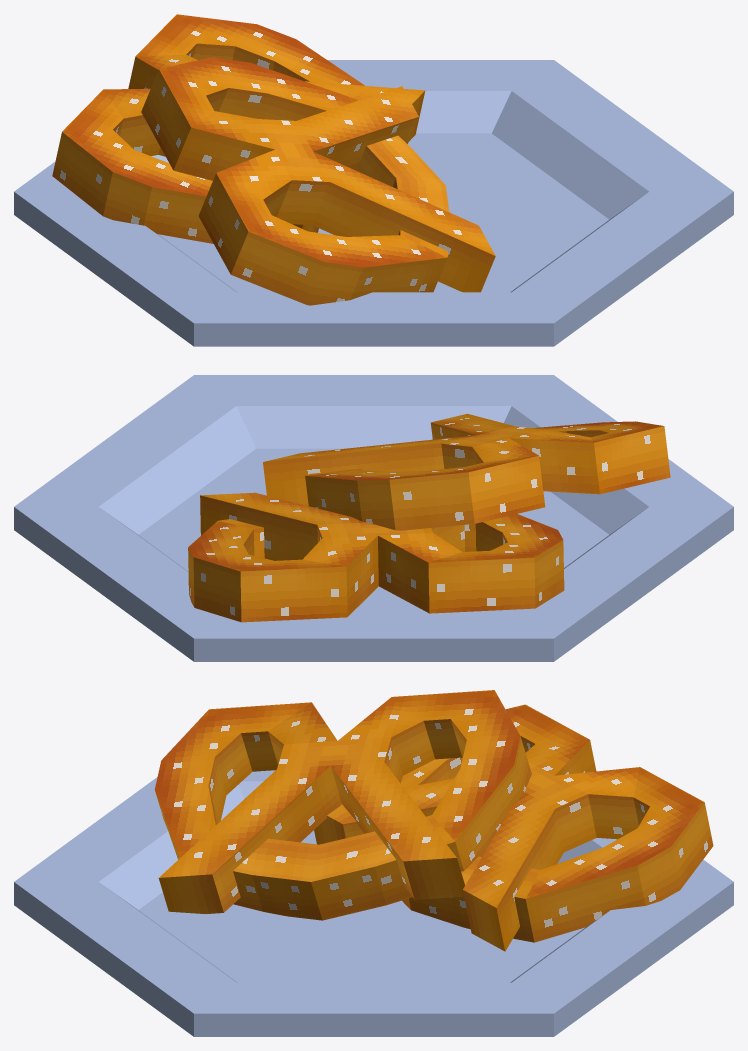
File: PretzlePlats.fbx
3 views of the same model, one above another, from view 1: azimuth 30°, elevation 25°; view 2: azimuth 150°, elevation 25°; view 3: azimuth 270°, elevation 25° (orthographic).
Parts seen in each view (by area): view 1: Plate.003, pretzel.001, pretzel; view 2: Plate.003, pretzel, pretzel.001; view 3: Plate.003, pretzel.001, pretzel.
Part boxes in pixels (x1,y1,x2,y2): Plate.003: [14, 60, 733, 346]; pretzel.001: [141, 57, 495, 305]; pretzel: [52, 14, 425, 243]; Plate.003: [14, 375, 733, 661]; pretzel: [188, 492, 564, 622]; pretzel.001: [263, 413, 670, 530]; Plate.003: [14, 770, 733, 1036]; pretzel.001: [154, 690, 531, 920]; pretzel: [314, 704, 713, 951].
Size of the model in its own units: 48.5 by 13.61 by 56.
